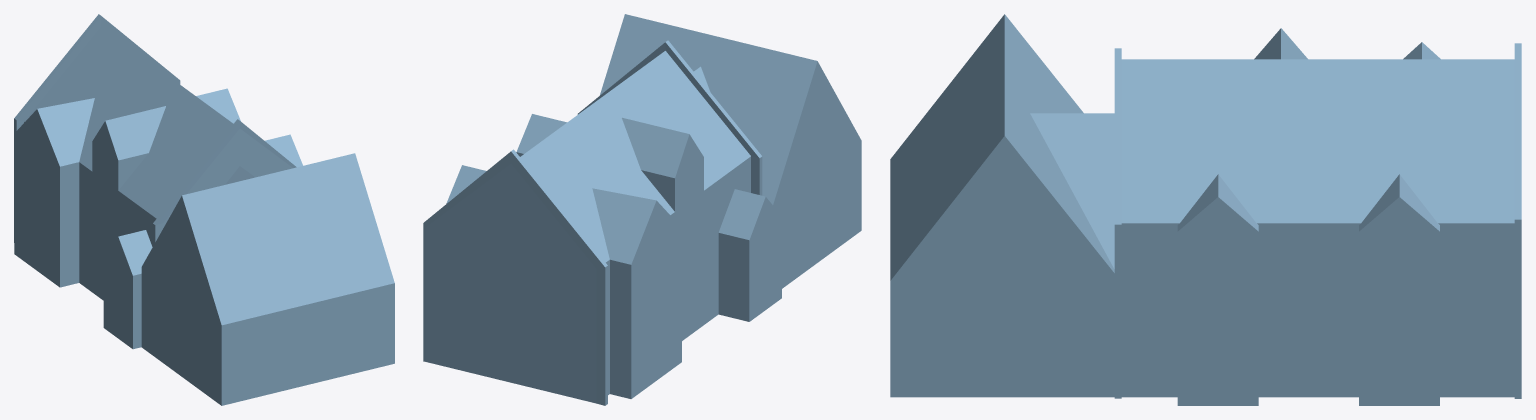
File: manor house.fbx
The picture shows the model from 3 angles, left to right: view 1: azimuth 30°, elevation 25°; view 2: azimuth 150°, elevation 25°; view 3: azimuth 270°, elevation 25°; orthographic projection. The views are drawn at different scales.
Visible parts, largest first — view 1: Cube; view 2: Cube; view 3: Cube.
Part boxes in pixels (x1,y1,x2,y2): Cube: (14, 14, 394, 405); Cube: (423, 14, 861, 405); Cube: (890, 14, 1521, 405).
Bounding box in the file's own units: 4.97 × 5.2 × 9.86.
